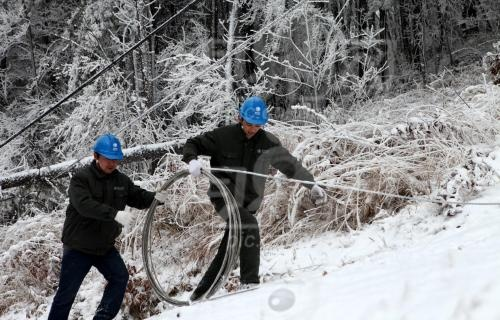blue: (91, 132, 123, 173), (237, 93, 267, 135)
